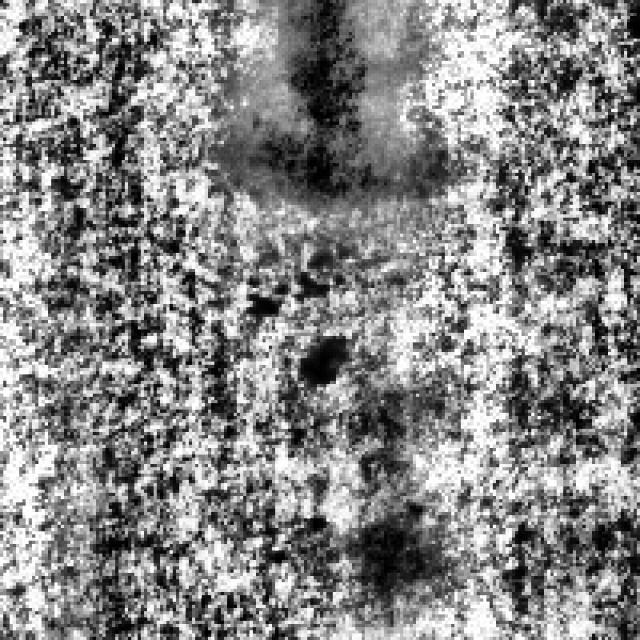Scratches: (240, 0, 393, 198)
